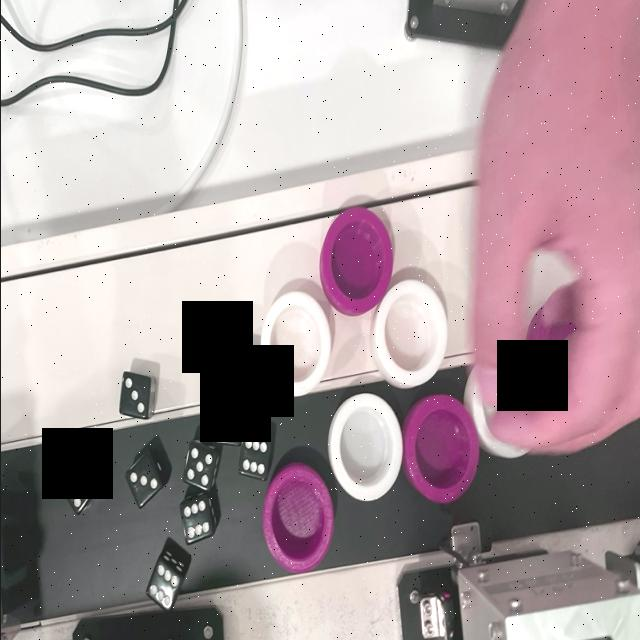DICE3: (125, 458, 162, 504), (116, 376, 146, 416)
DICE5: (226, 343, 258, 393), (183, 441, 213, 488), (213, 399, 240, 444)
DICE6: (54, 459, 94, 510), (143, 560, 181, 610), (180, 494, 214, 546), (234, 434, 270, 479)
RedChip: (266, 464, 331, 572), (409, 399, 469, 504), (320, 214, 384, 310)
WhiteChip: (375, 282, 445, 383), (336, 394, 398, 502), (266, 296, 324, 394)
